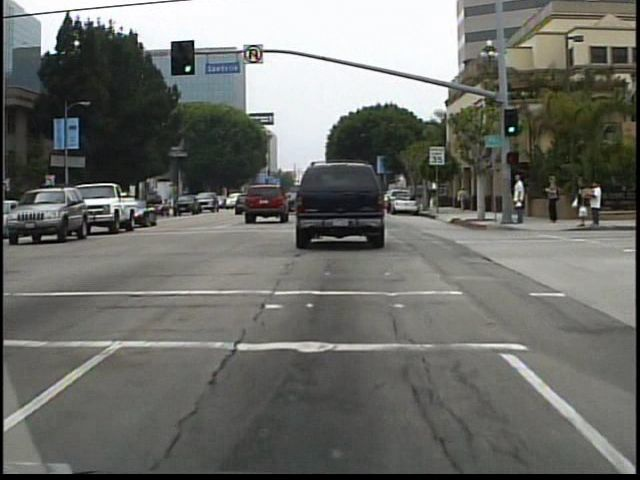person: (508, 170, 527, 228), (542, 174, 561, 227), (453, 184, 468, 214), (421, 184, 433, 212)
